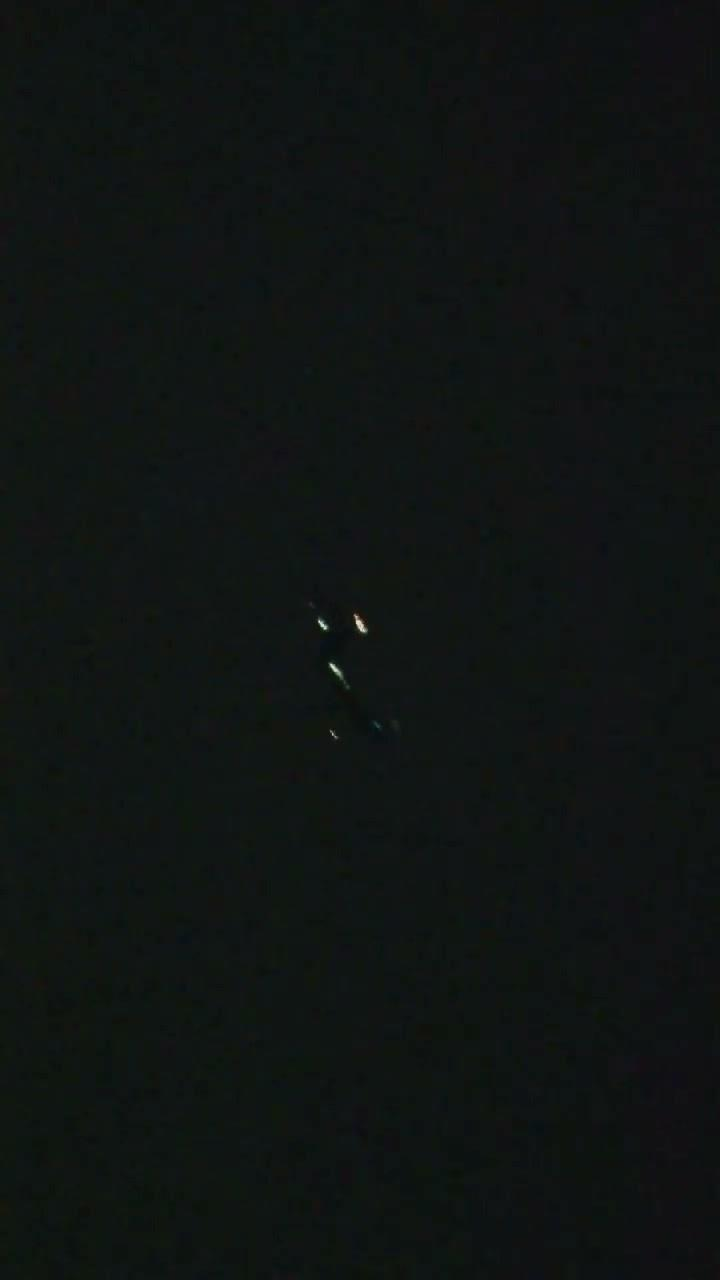Plane: (270, 551, 444, 763)
